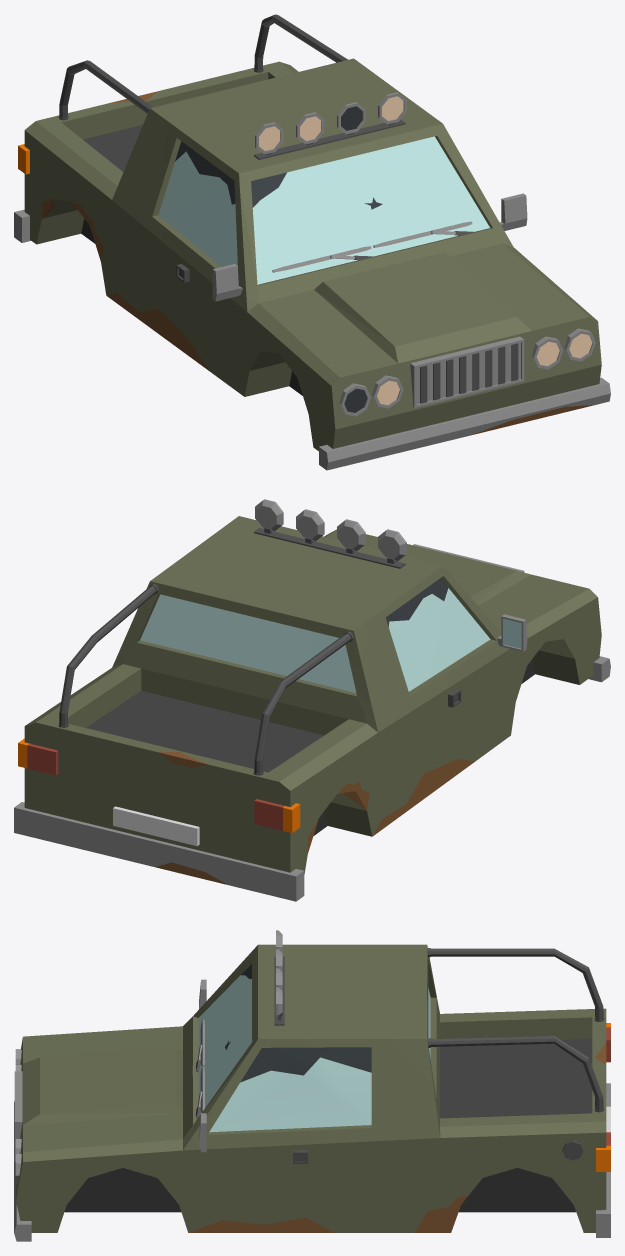
File: OldCar_02.fbx
The picture shows the model from 3 angles, top to bottom: view 1: azimuth 30°, elevation 25°; view 2: azimuth 150°, elevation 25°; view 3: azimuth 270°, elevation 25°; orthographic projection. The views are drawn at different scales.
Visible parts, largest first — view 1: OldCar_02; view 2: OldCar_02; view 3: OldCar_02.
Boxes of the visible parts, x1,y1,x2,y2 form: OldCar_02: (14,14,610,470); OldCar_02: (14,499,610,901); OldCar_02: (14,930,610,1241).
Bounding box in the file's own units: 187 × 130 × 328.
